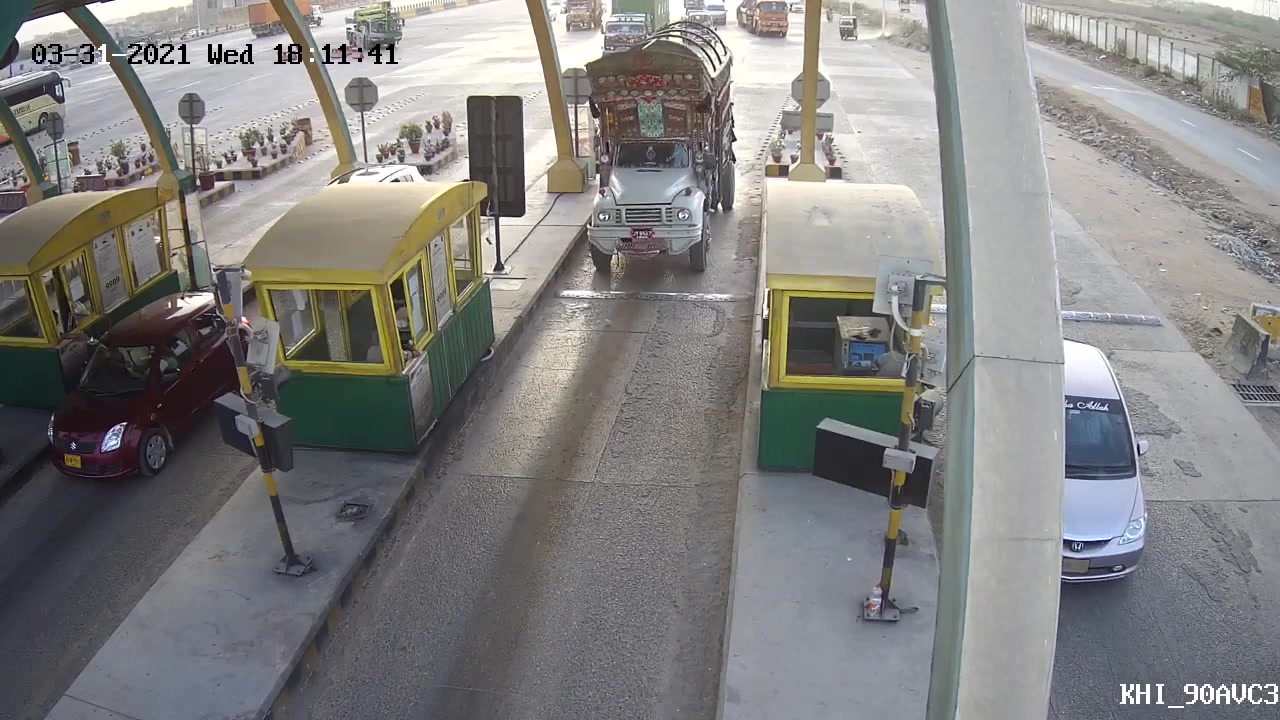F5: (575, 19, 746, 282)
